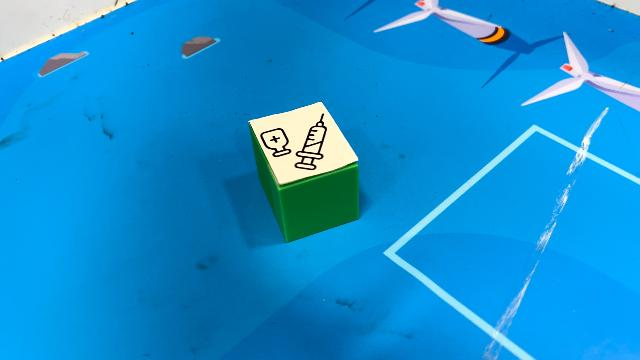syringe: (246, 99, 362, 243)
